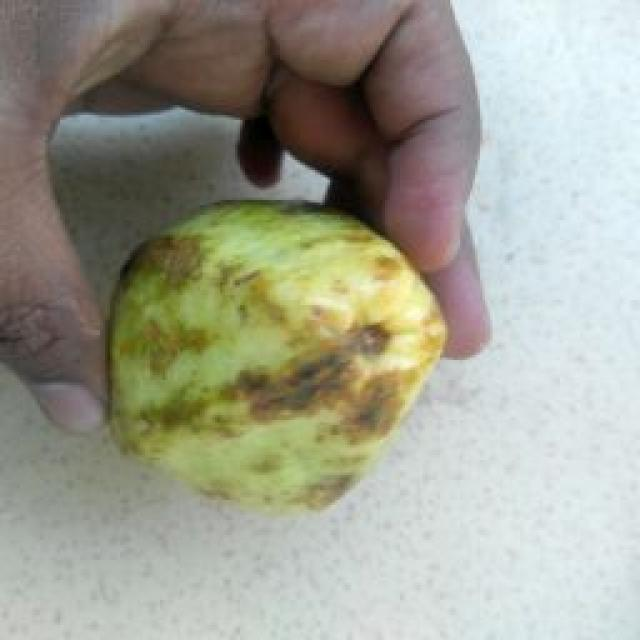Bad_Guava: (110, 202, 445, 512)
